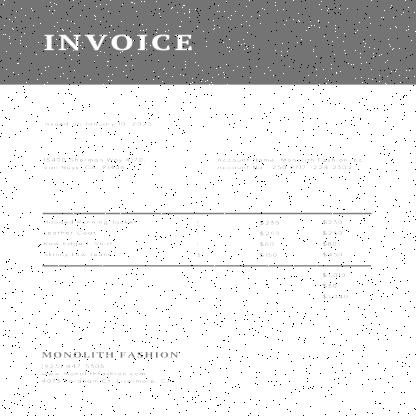Paragraph: (38, 348, 180, 386), (192, 270, 350, 301), (213, 142, 367, 172), (40, 142, 172, 172), (41, 32, 196, 52), (42, 106, 154, 130)
Table: (39, 199, 372, 267)
